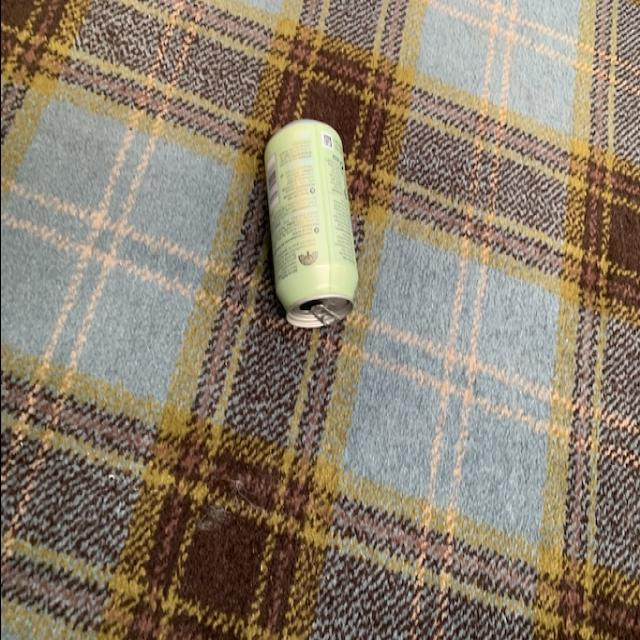Aluminum Can: (260, 115, 356, 337)
